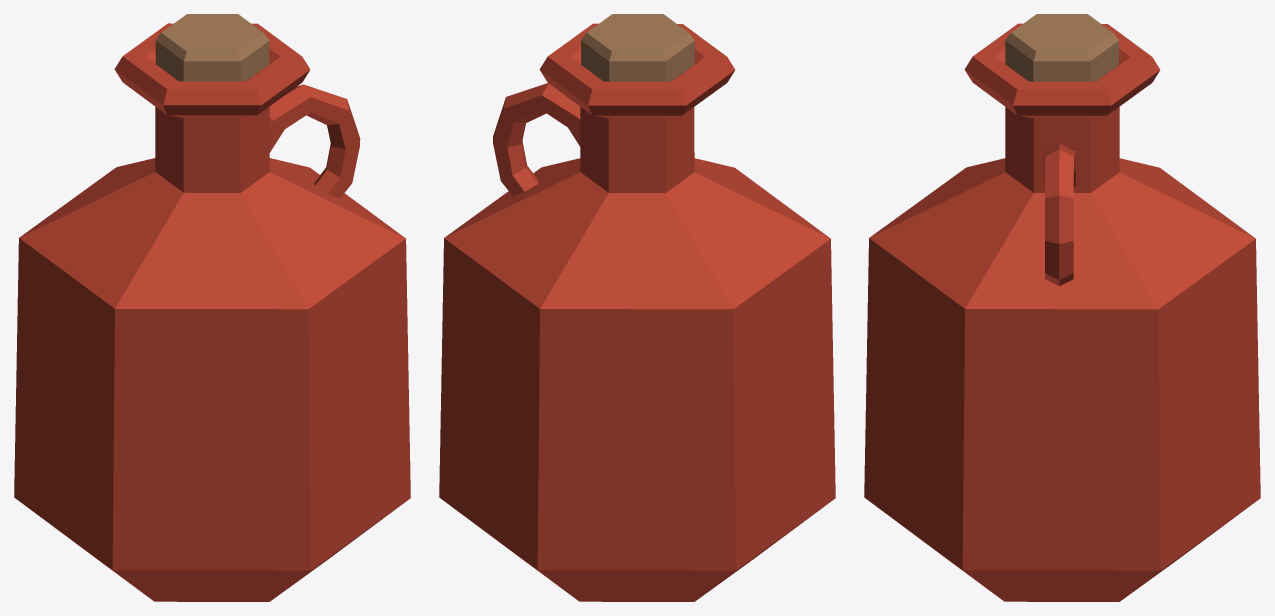
The model's file is potion_4.glb.
3 renders of one model, left to right at view 1: azimuth 30°, elevation 25°; view 2: azimuth 150°, elevation 25°; view 3: azimuth 270°, elevation 25°, orthographic.
Visible parts, largest first — view 1: potion_4; view 2: potion_4; view 3: potion_4.
Boxes of the visible parts, box(x1,y1,x2,y2) form: potion_4: box(14, 14, 410, 601); potion_4: box(439, 14, 835, 601); potion_4: box(864, 14, 1260, 601).
Size of the model in its own units: 0.2311 by 0.3904 by 0.2662.
Materials: 2 (2 with a texture image).
